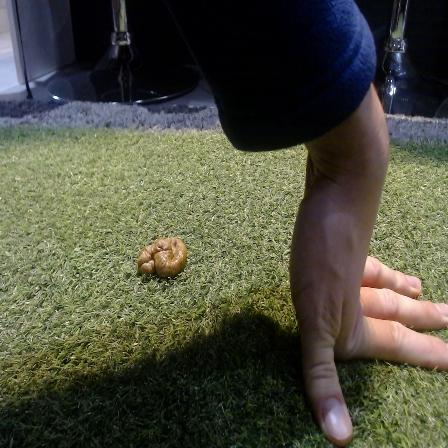dog-poop: (132, 232, 190, 282)
